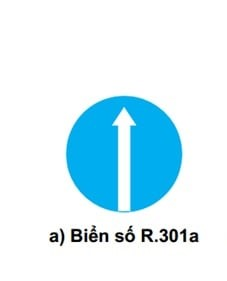Go_straight: (65, 95, 184, 216)
